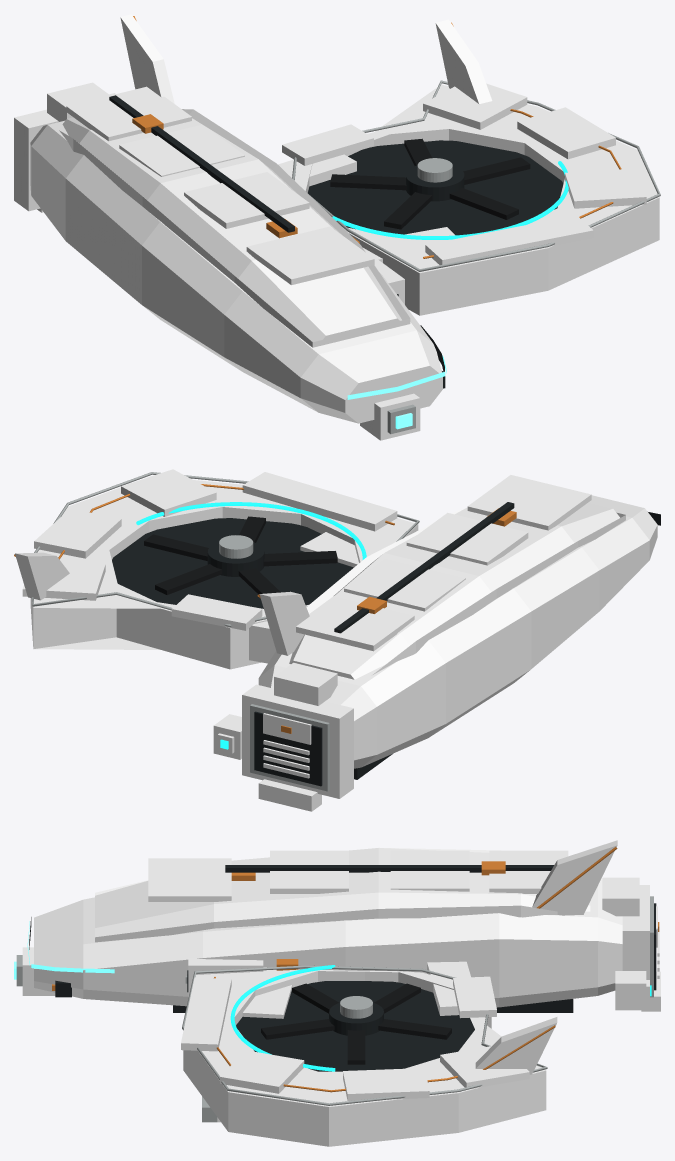
The model's file is morrowgear-family-a-scout-v5.glb.
3 renders of one model, top to bottom at view 1: azimuth 30°, elevation 25°; view 2: azimuth 150°, elevation 25°; view 3: azimuth 270°, elevation 25°, orthographic. The views are drawn at different scales.
Parts seen in each view (by area): view 1: F01_Fuselage, F02_UpperArmor, W02_DuctWing.R, R02_InnerWell.R, F02_TopPanel_0, W02_ArmorPanel_0.R, F02_TopPanel_1, F02_TopPanel_3, F02_TopPanel_2, W02_ArmorPanel_2.R, W02_ArmorPanel_1.R, W02_ArmorPanel_3.R (+16 smaller); view 2: F01_Fuselage, W02_DuctWing.R, F02_UpperArmor, R02_InnerWell.R, V01_RearHousing, W02_ArmorPanel_0.R, F02_TopPanel_0, F02_TopPanel_3, F02_TopPanel_1, F02_TopPanel_2, W02_ArmorPanel_2.R, W02_ArmorPanel_1.R (+21 smaller); view 3: F01_Fuselage, W02_DuctWing.R, F02_UpperArmor, R02_InnerWell.R, F02_TopPanel_0, T02_CenterFin.R, F02_TopPanel_1, W02_ArmorPanel_0.R, F02_TopPanel_2, W02_ArmorPanel_2.R, W02_ArmorPanel_1.R, W04_RearTipFairing.R (+21 smaller).
Boxes of the visible parts, x1,y1,x2,y2 form: F01_Fuselage: (30,120,442,423); F02_UpperArmor: (59,109,410,347); W02_DuctWing.R: (294,84,659,315); R02_InnerWell.R: (308,140,563,235); F02_TopPanel_0: (246,226,374,285); W02_ArmorPanel_0.R: (425,215,593,264); F02_TopPanel_1: (184,172,309,228); F02_TopPanel_3: (66,86,191,141); F02_TopPanel_2: (119,124,244,176); W02_ArmorPanel_2.R: (517,107,615,159); W02_ArmorPanel_1.R: (565,168,646,208); W02_ArmorPanel_3.R: (423,83,527,129); F01_Fuselage: (258,495,657,768); W02_DuctWing.R: (30,476,418,669); F02_UpperArmor: (289,502,625,679); R02_InnerWell.R: (112,518,353,608); V01_RearHousing: (242,684,353,798); W02_ArmorPanel_0.R: (242,472,397,531); F02_TopPanel_0: (467,475,591,530); F02_TopPanel_3: (296,596,414,651); F02_TopPanel_1: (406,512,528,565); F02_TopPanel_2: (344,558,465,611); W02_ArmorPanel_2.R: (34,508,121,558); W02_ArmorPanel_1.R: (121,469,216,516); F01_Fuselage: (34,879,622,1007); W02_DuctWing.R: (183,969,546,1146); F02_UpperArmor: (95,847,590,942); R02_InnerWell.R: (236,981,474,1071); F02_TopPanel_0: (148,858,231,901); T02_CenterFin.R: (532,840,617,915); F02_TopPanel_1: (270,850,348,893); W02_ArmorPanel_0.R: (181,977,231,1051); F02_TopPanel_2: (390,850,469,891); W02_ArmorPanel_2.R: (343,1068,429,1100); W02_ArmorPanel_1.R: (220,1050,304,1093); W04_RearTipFairing.R: (475,1017,557,1074).
Size of what is drawn, in the model's own units: 4.8 by 2.54 by 5.9.
